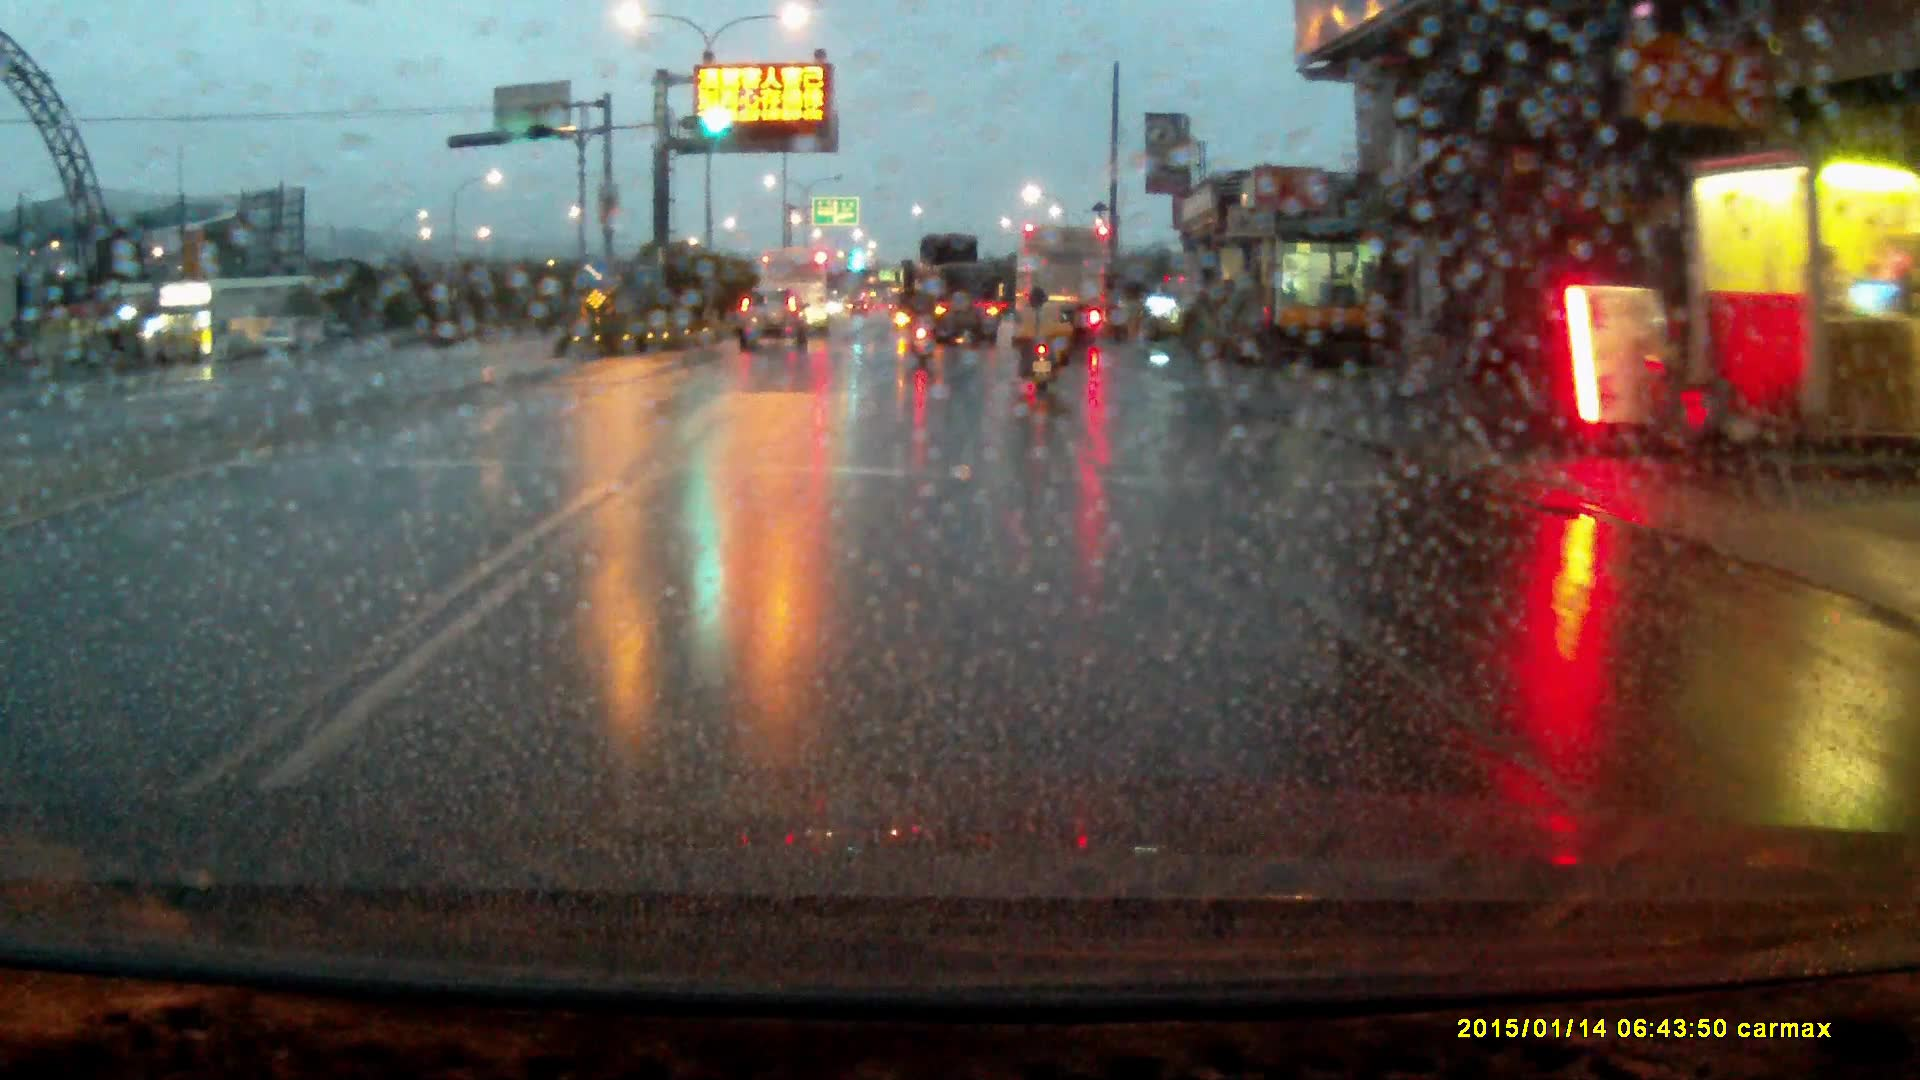rider: (1018, 287, 1067, 403), (902, 281, 940, 368)
vehicle: (1017, 221, 1115, 343), (907, 233, 1001, 347), (758, 246, 832, 335), (738, 287, 811, 352)
